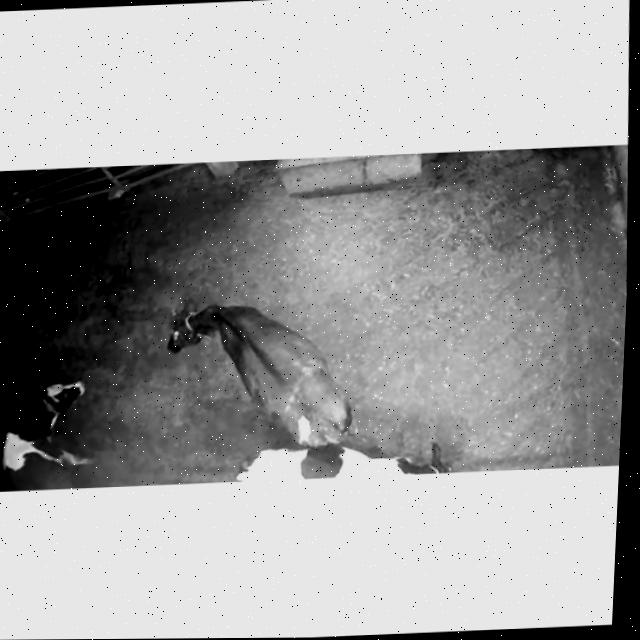stand: (148, 274, 377, 455), (0, 366, 111, 491), (228, 427, 468, 481)
